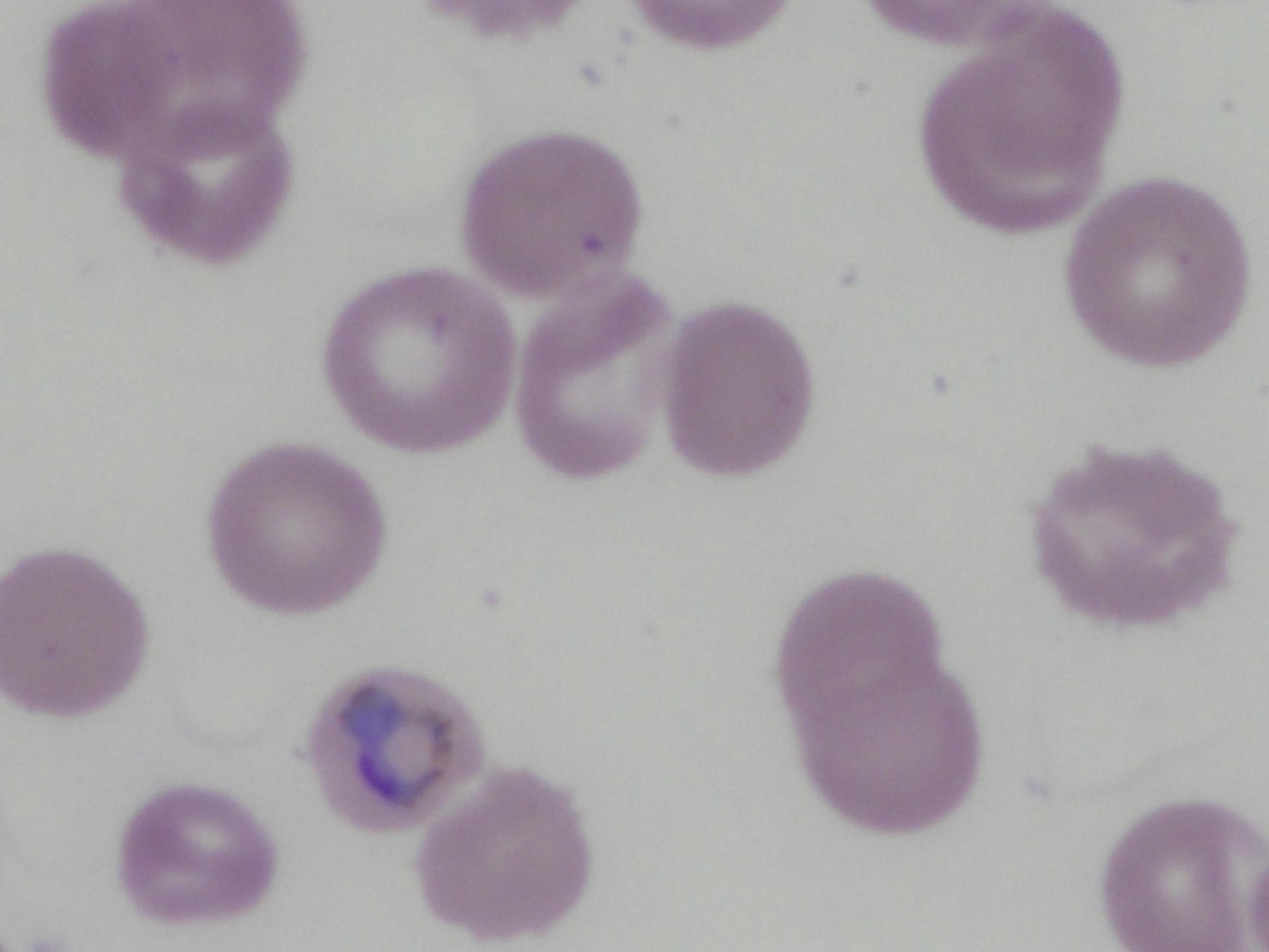Infected: (305, 667, 482, 836)
Uninfected: (778, 575, 979, 831), (52, 1, 296, 168), (326, 268, 516, 451), (1035, 449, 1233, 620), (1066, 179, 1249, 364), (517, 277, 668, 472), (208, 446, 381, 612), (925, 60, 1097, 226), (420, 772, 588, 936), (465, 135, 638, 292), (1103, 802, 1263, 949), (0, 552, 143, 715), (668, 307, 809, 472), (117, 787, 272, 924), (129, 136, 285, 260)
